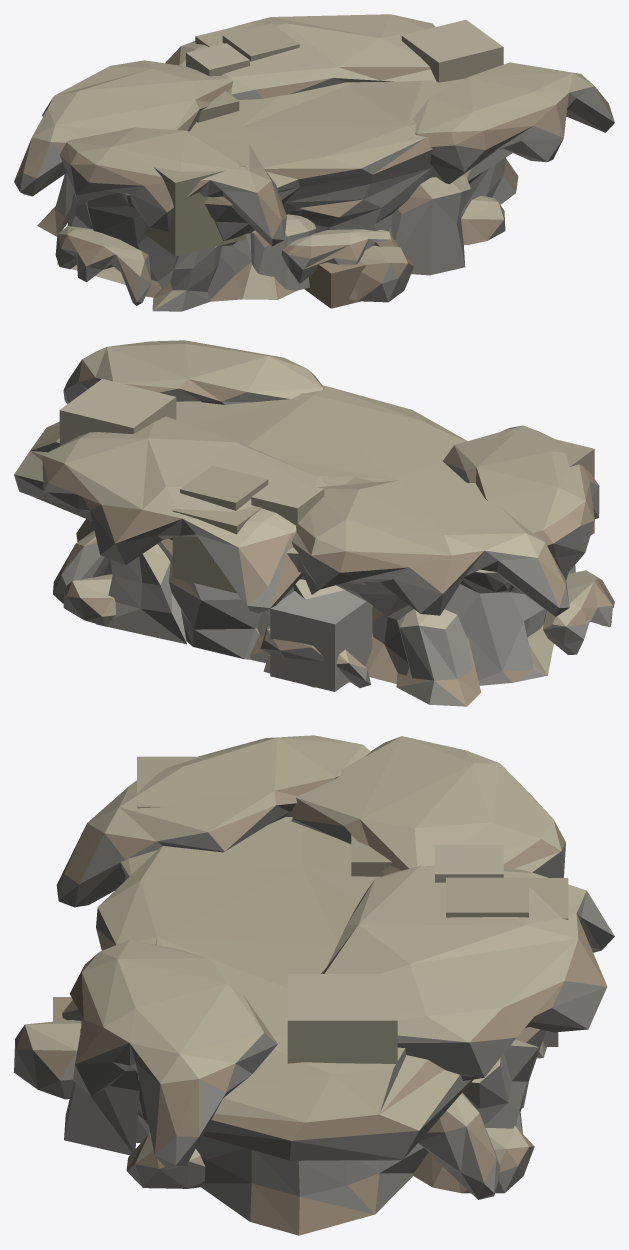
The model's file is hill_01a.glb.
3 views of the same model, one above another, from view 1: azimuth 30°, elevation 25°; view 2: azimuth 150°, elevation 25°; view 3: azimuth 270°, elevation 25° (orthographic). The views are drawn at different scales.
Visible parts, largest first — view 1: mapa.terreno.colina.env_hill_01a; view 2: mapa.terreno.colina.env_hill_01a; view 3: mapa.terreno.colina.env_hill_01a.
Part boxes in pixels (left/top/right/bottom): mapa.terreno.colina.env_hill_01a: left=14, top=14, right=614, bottom=311; mapa.terreno.colina.env_hill_01a: left=14, top=340, right=614, bottom=706; mapa.terreno.colina.env_hill_01a: left=14, top=735, right=614, bottom=1235.
Bounding box in the file's own units: 16.52 × 4.34 × 11.29.
